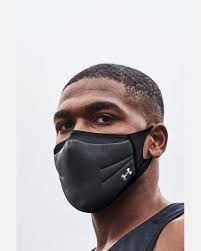with-mask: (49, 62, 169, 216)
